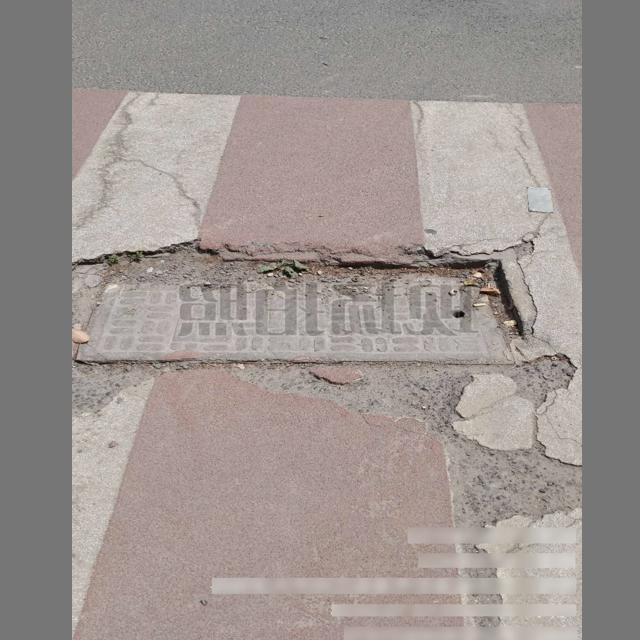circle: (72, 252, 540, 370)
